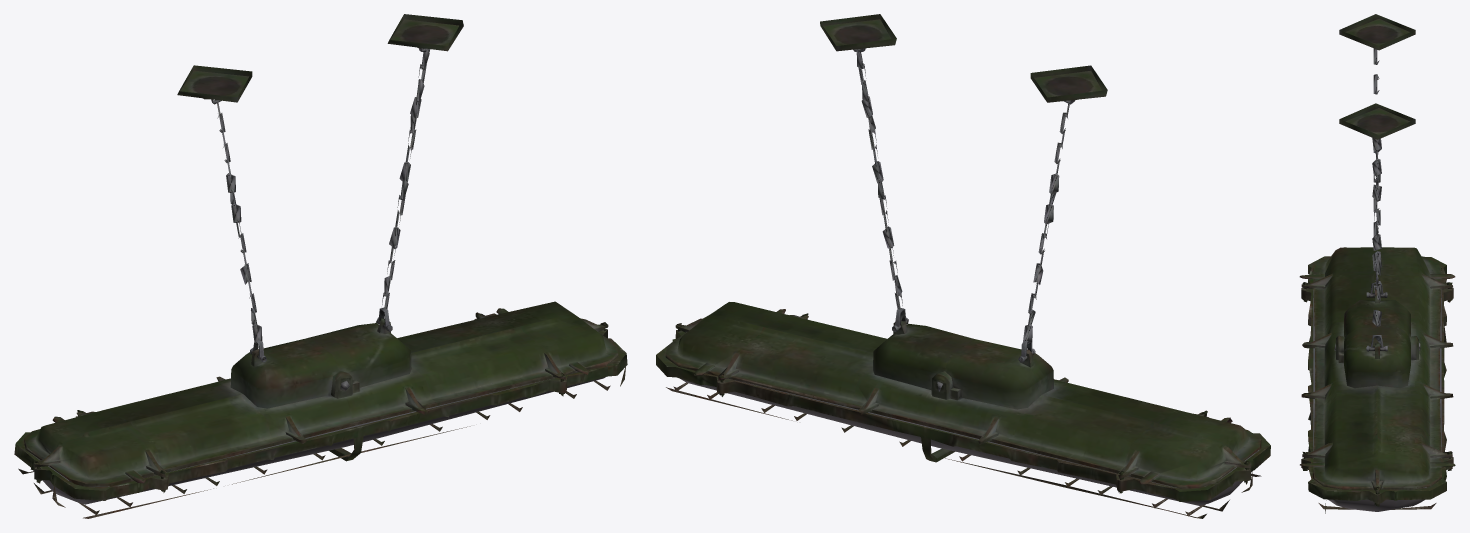
Rendered from caged_hanging_light.glb.
3 views of the same model, side by side, from view 1: azimuth 30°, elevation 25°; view 2: azimuth 150°, elevation 25°; view 3: azimuth 270°, elevation 25° (orthographic). The views are drawn at different scales.
Parts seen in each view (by area): view 1: caged_hanging_light; view 2: caged_hanging_light; view 3: caged_hanging_light.
Part boxes in pixels (bbox=[...]): caged_hanging_light: bbox=[14, 14, 627, 518]; caged_hanging_light: bbox=[656, 14, 1270, 518]; caged_hanging_light: bbox=[1299, 14, 1455, 513].
Bounding box in the file's own units: 1.16 × 0.7501 × 0.3149.
Materials: 1 (1 with a texture image).
